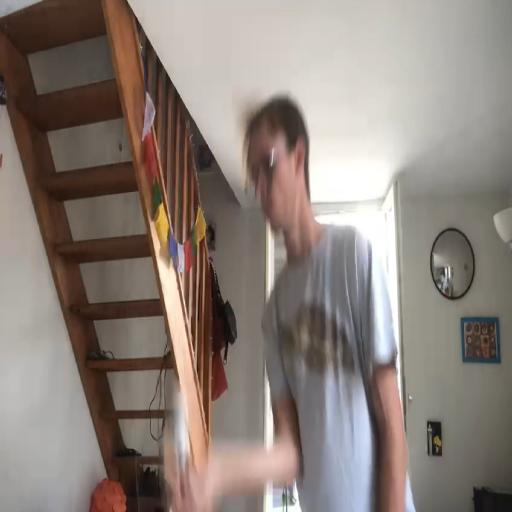kendama_ball: (171, 394, 189, 470)
